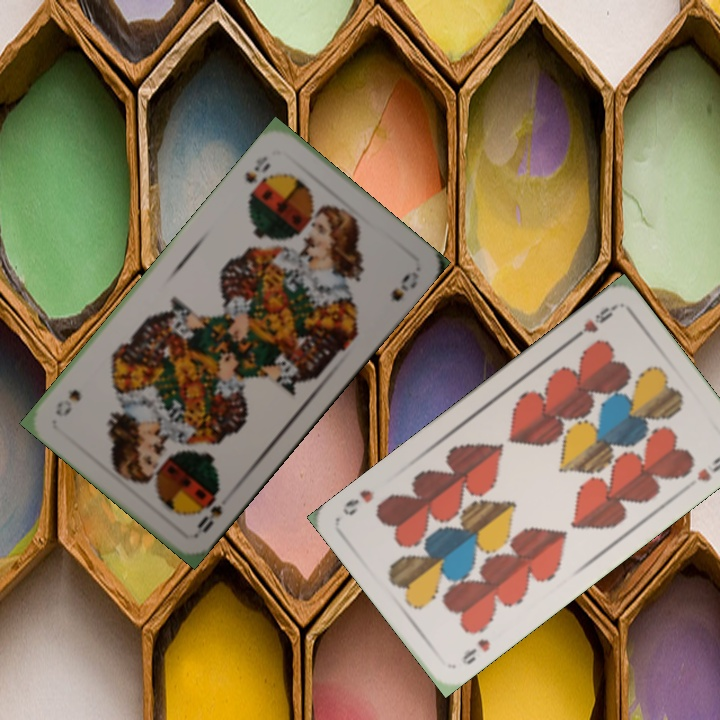H9: (567, 302, 618, 344), (457, 634, 493, 668)
SO: (192, 484, 225, 538), (241, 152, 273, 199)
